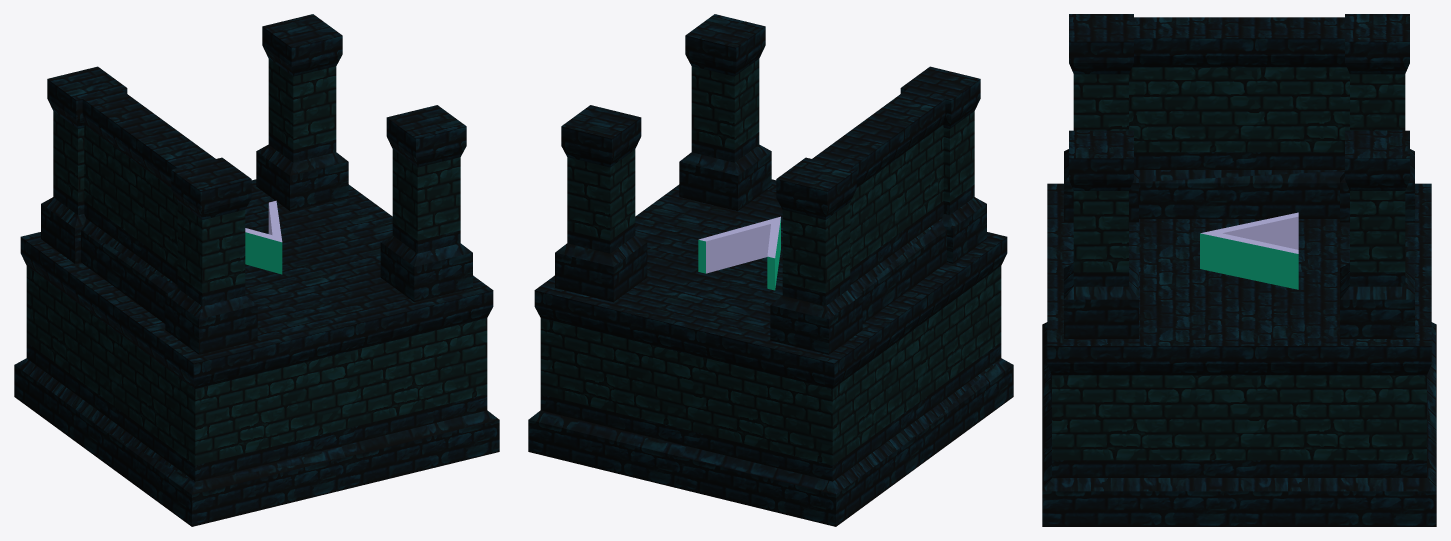
File: debug-wall-right.glb
3 renders of one model, left to right at view 1: azimuth 30°, elevation 25°; view 2: azimuth 150°, elevation 25°; view 3: azimuth 270°, elevation 25°, orthographic. The views are drawn at different scales.
Parts seen in each view (by area): view 1: mergedBlocks(Clone); view 2: mergedBlocks(Clone); view 3: mergedBlocks(Clone).
Part boxes in pixels (box(x1,y1,x2,y2)): mergedBlocks(Clone): box(14, 14, 499, 526); mergedBlocks(Clone): box(528, 14, 1013, 526); mergedBlocks(Clone): box(1042, 14, 1436, 526).
Size of the model in its own units: 2 by 2 by 2.
4 materials, 2 textured.
